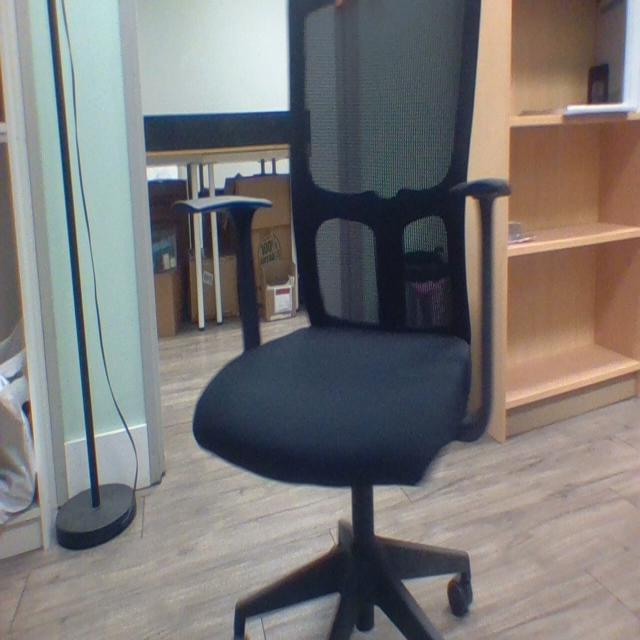chair: (177, 1, 527, 640)
